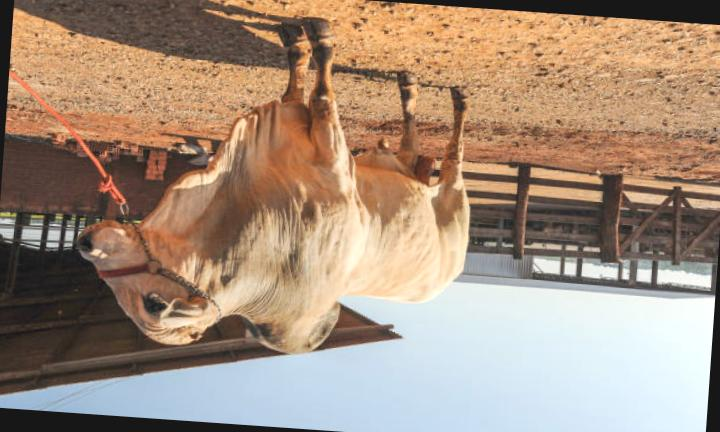Brahman: (79, 20, 469, 354)
